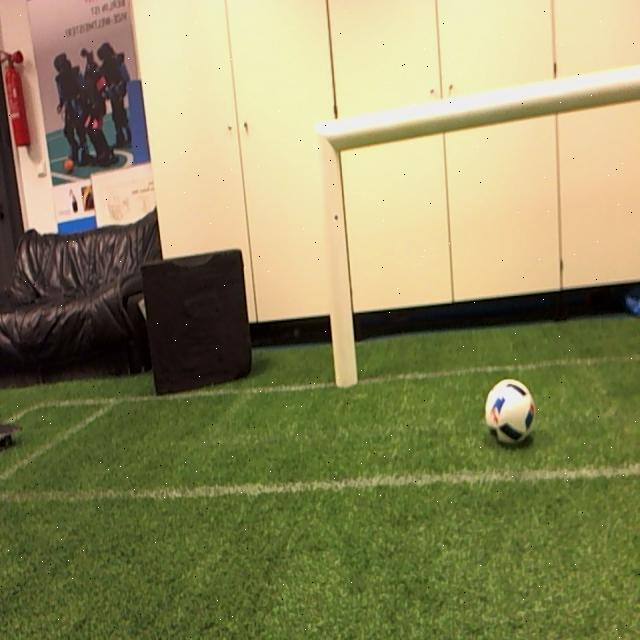ball: (485, 376, 537, 446)
goalpost: (316, 120, 361, 388)
